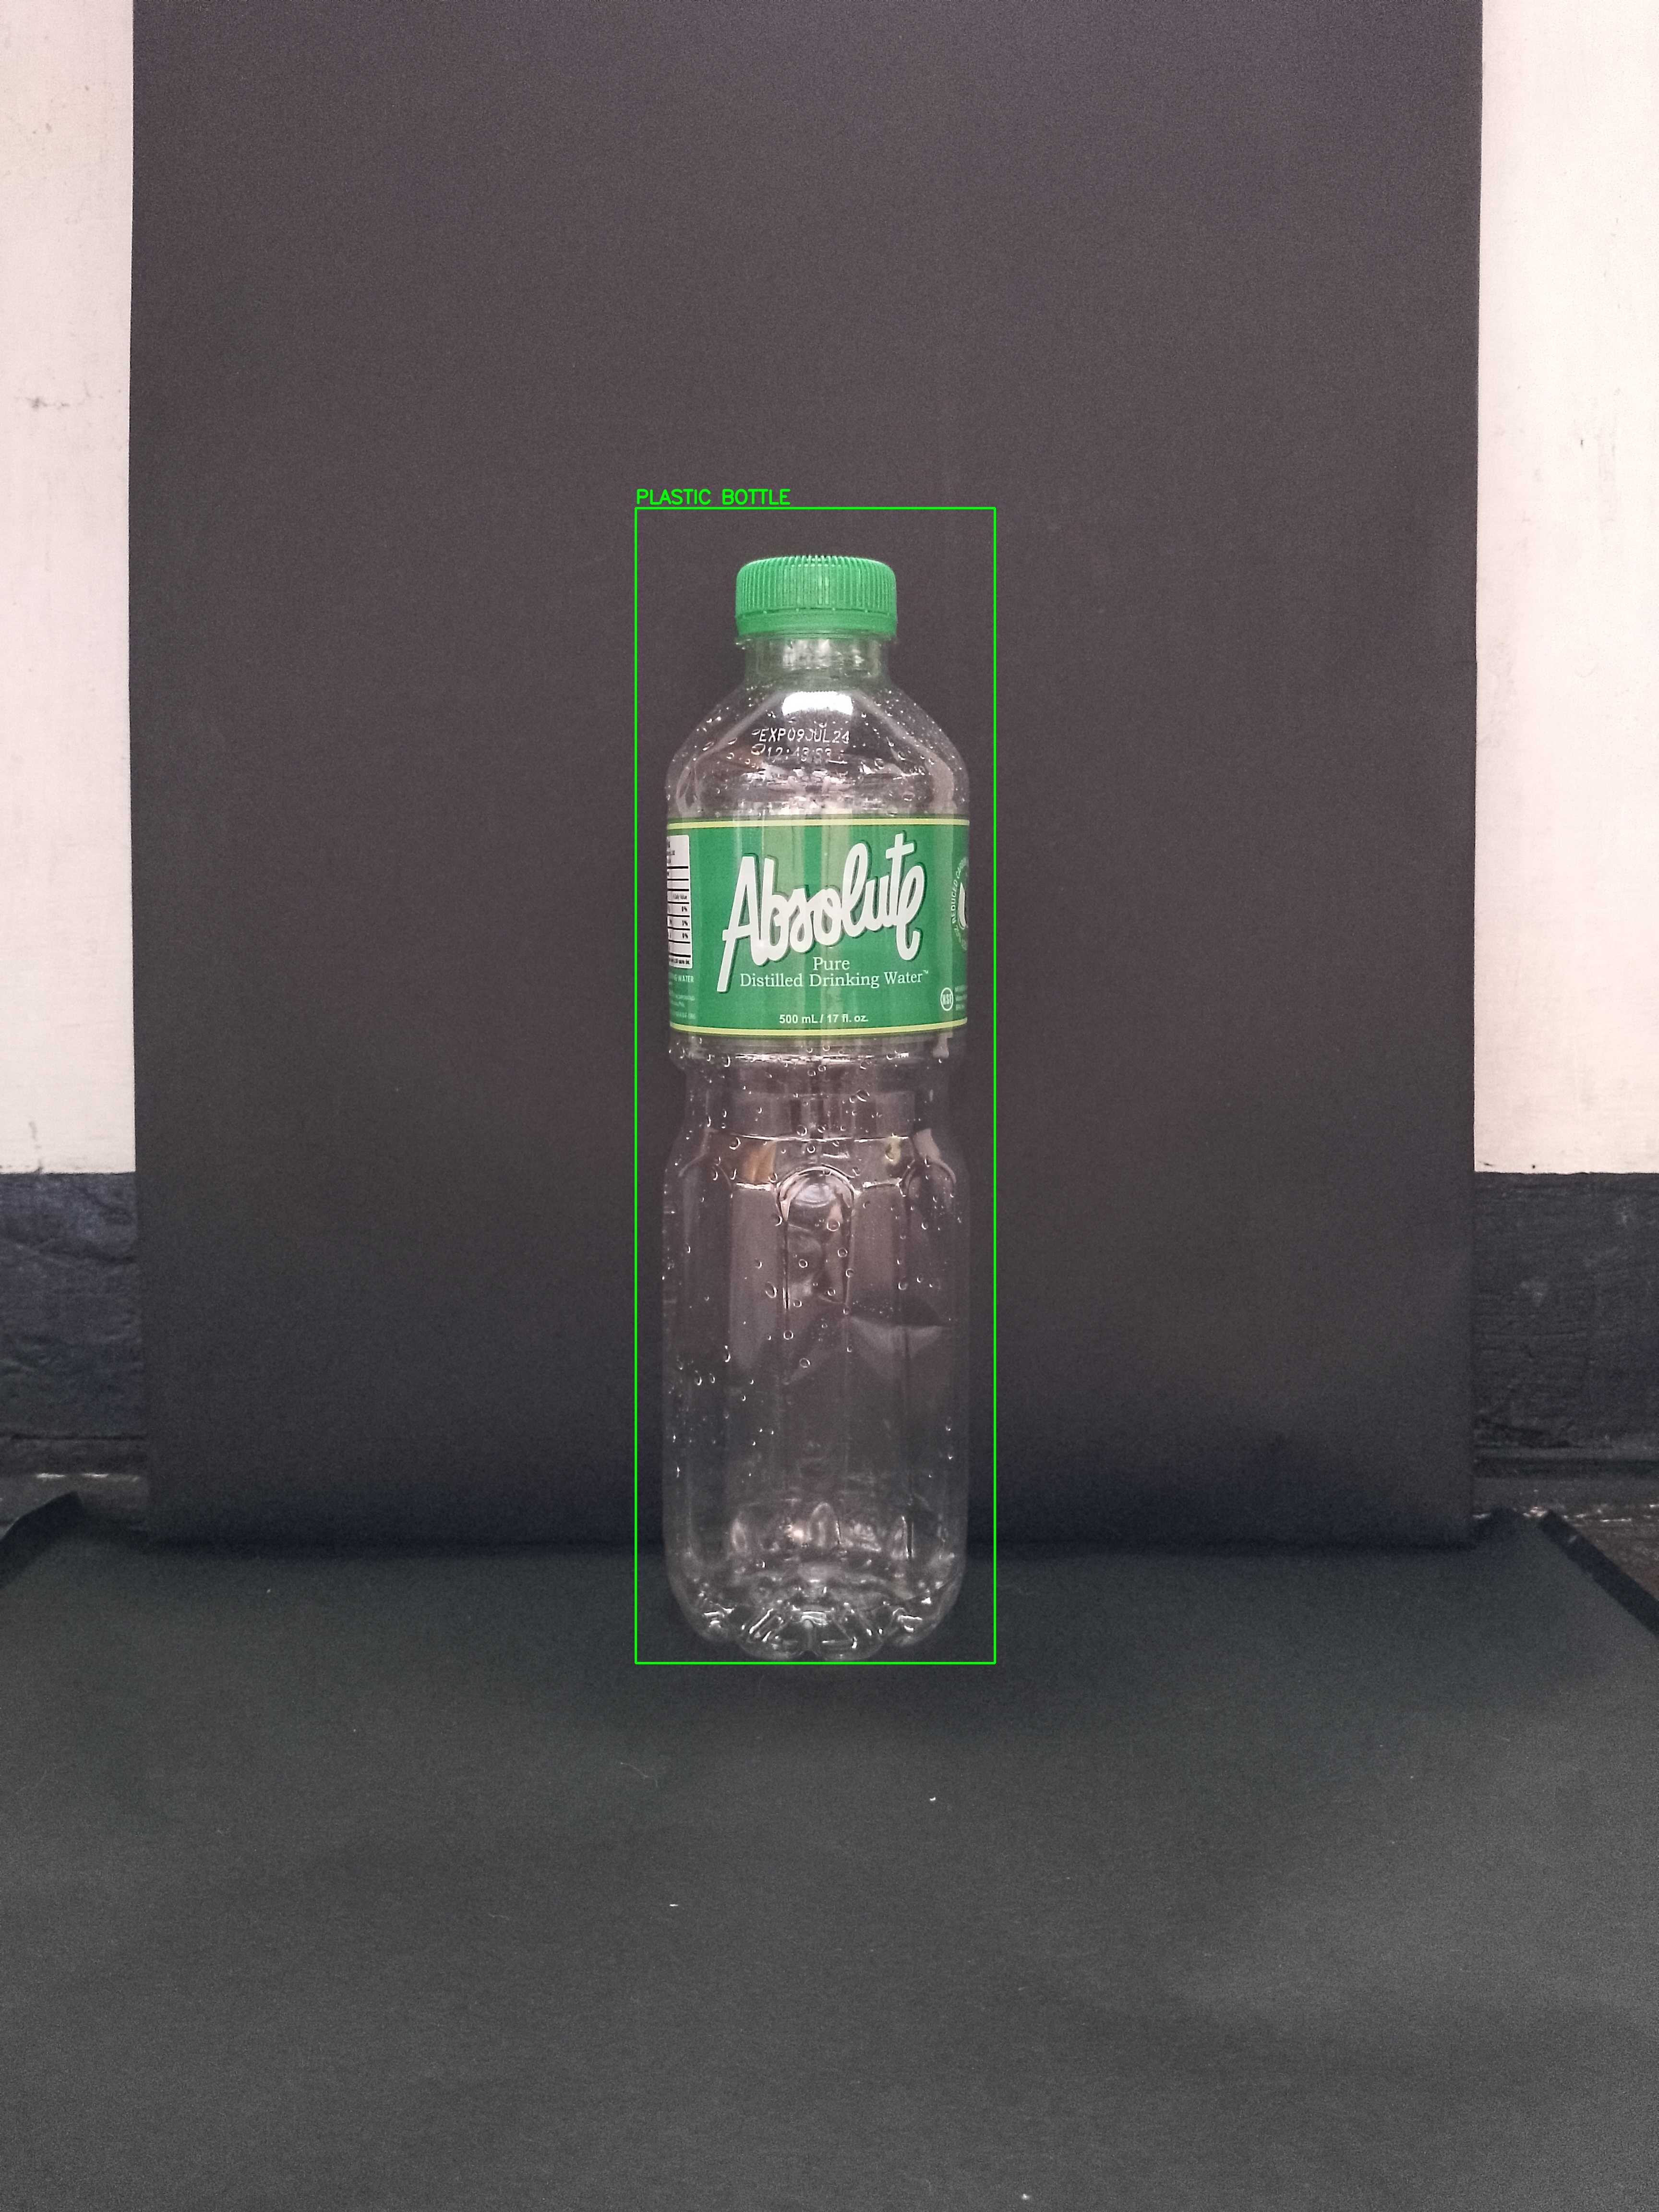plastic bottle: (652, 545, 992, 1679)
